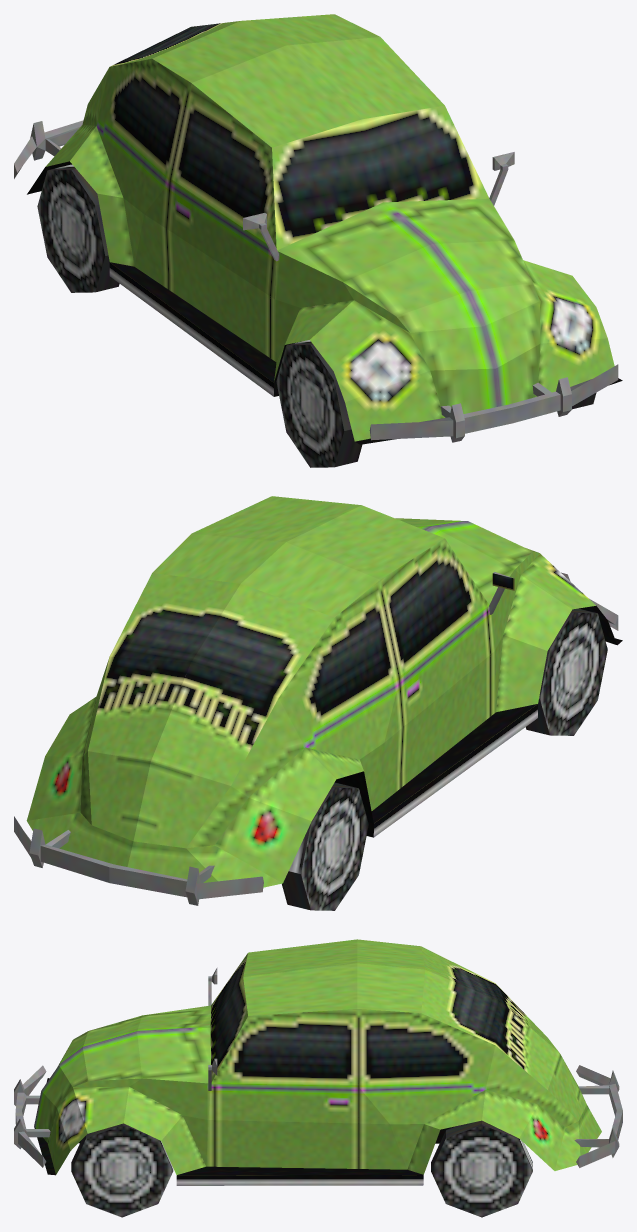
Rendered from petaverde.fbx.
3 renders of one model, top to bottom at view 1: azimuth 30°, elevation 25°; view 2: azimuth 150°, elevation 25°; view 3: azimuth 270°, elevation 25°, orthographic. The views are drawn at different scales.
Visible parts, largest first — view 1: compact_classic; view 2: compact_classic; view 3: compact_classic.
Boxes of the visible parts, box(x1,y1,x2,y2) form: compact_classic: box(14, 14, 622, 467); compact_classic: box(14, 496, 622, 910); compact_classic: box(14, 939, 622, 1217).
Size of the model in its own units: 158 by 153 by 406.
1 material, 1 textured.
